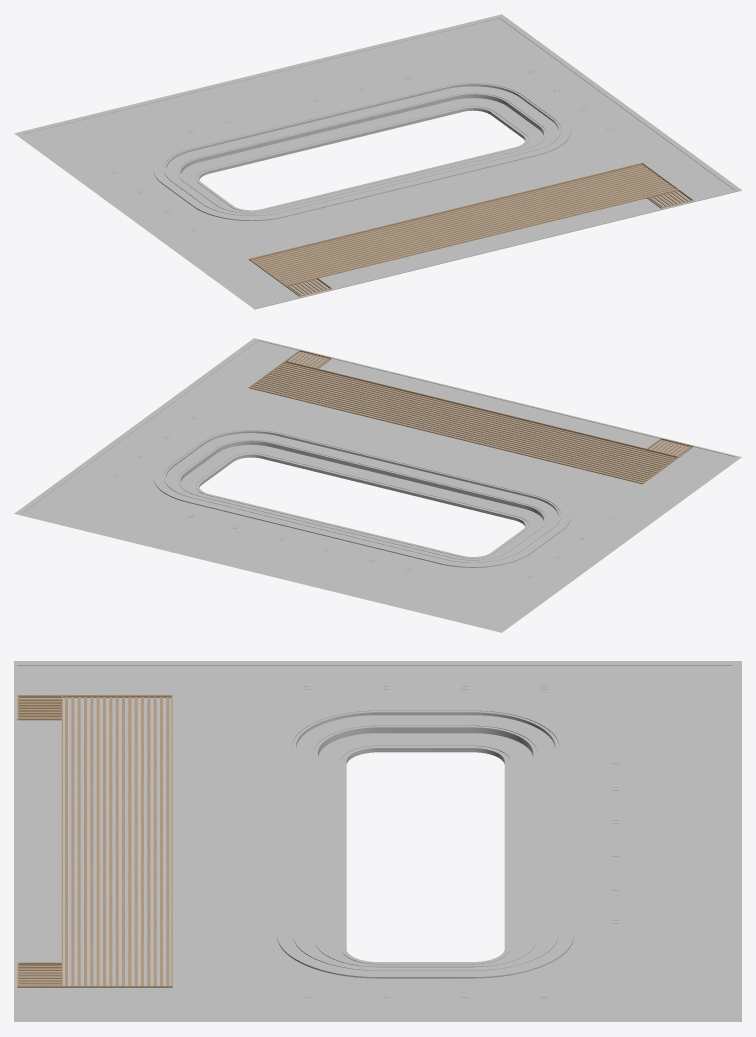
The picture shows the model from 3 angles, top to bottom: view 1: azimuth 30°, elevation 25°; view 2: azimuth 150°, elevation 25°; view 3: azimuth 270°, elevation 25°; orthographic projection. The views are drawn at different scales.
Parts seen in each view (by area): view 1: M_C_301_b_27x23; view 2: M_C_301_b_27x23; view 3: M_C_301_b_27x23.
Part boxes in pixels (x1,y1,x2,y2): M_C_301_b_27x23: [14, 14, 741, 309]; M_C_301_b_27x23: [14, 338, 741, 632]; M_C_301_b_27x23: [14, 661, 741, 1021].
Bounding box in the file's own units: 27 × 0.65 × 23.01.
